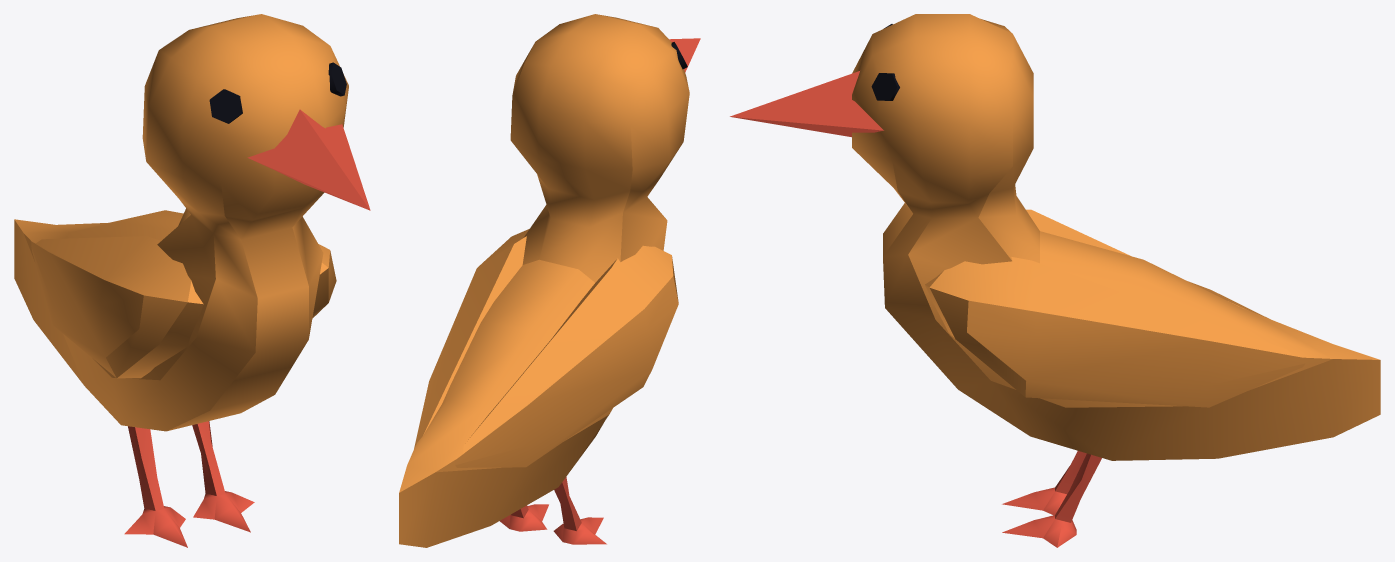
The model's file is Little_Chicken.fbx.
3 views of the same model, side by side, from view 1: azimuth 30°, elevation 25°; view 2: azimuth 150°, elevation 25°; view 3: azimuth 270°, elevation 25° (orthographic). The views are drawn at different scales.
Visible parts, largest first — view 1: Little_Chicken; view 2: Little_Chicken; view 3: Little_Chicken.
Boxes of the visible parts, box(x1,y1,x2,y2) form: Little_Chicken: box(14, 14, 370, 547); Little_Chicken: box(399, 14, 700, 547); Little_Chicken: box(730, 14, 1380, 547).
Size of the model in its own units: 4.29 by 10.88 by 13.04.
